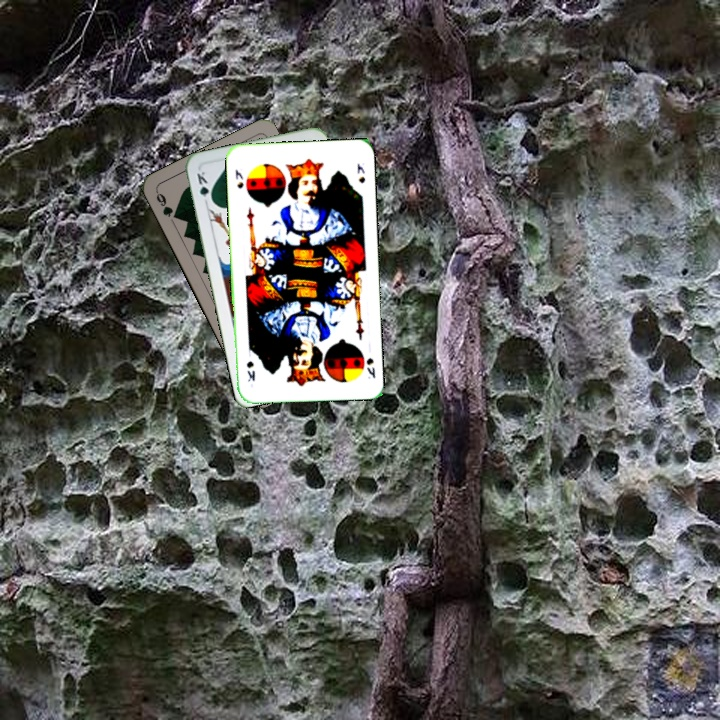G9: (152, 187, 182, 222)
GK: (193, 167, 215, 207)
SK: (363, 354, 378, 381), (231, 165, 246, 191)
